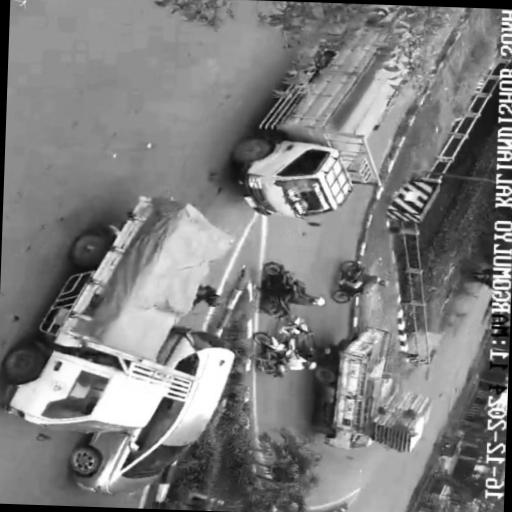motorcycle: (256, 260, 298, 322), (250, 331, 292, 382), (331, 256, 369, 306)
truck: (0, 184, 237, 427), (223, 3, 440, 227), (311, 325, 395, 444)
